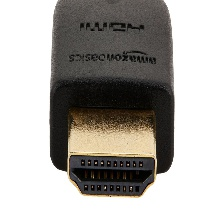hdmi_male: (18, 4, 205, 200)
